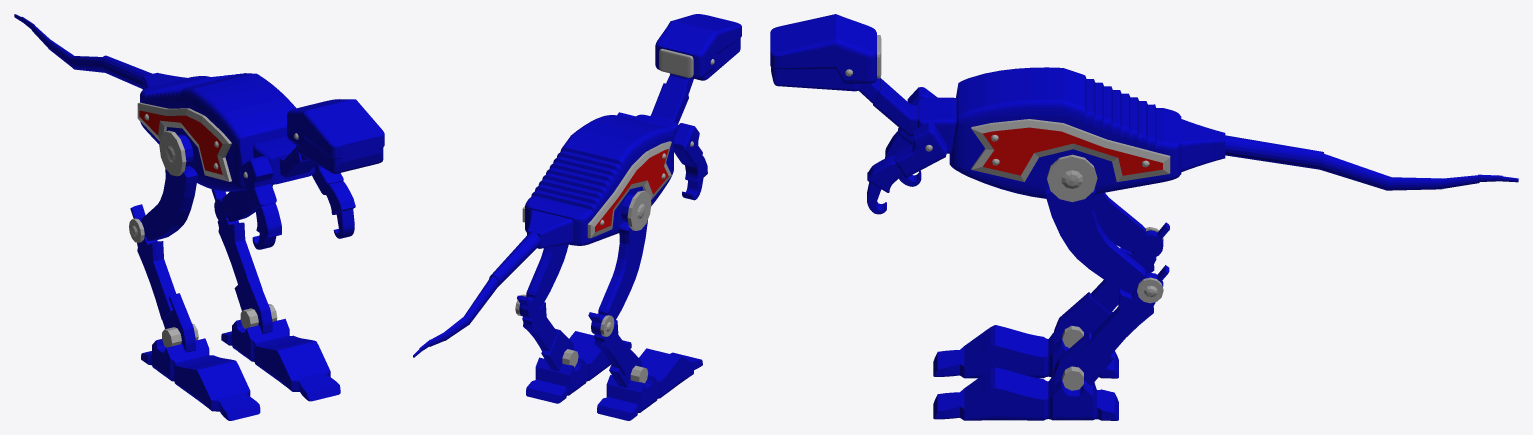
File: dinomech.obj
The picture shows the model from 3 angles, left to right: view 1: azimuth 30°, elevation 25°; view 2: azimuth 150°, elevation 25°; view 3: azimuth 270°, elevation 25°; orthographic projection. The views are drawn at different scales.
Visible parts, largest first — view 1: body_main, DINOMECH_DINOMECH_BLUE_METAL, FOOT01, FOOT, leg_mid, DINOMECH_DINOMECH_Explorer_Default, leg_mid01, DINOMECH_DINOMECH_FACEMAP_METL_BMP, upr_arm, DINOMECH_DINOMECH_BRUSHED_METAL, leg_btm01, leg_btm (+8 smaller); view 2: body_main, DINOMECH_DINOMECH_BLUE_METAL, FOOT01, FOOT, DINOMECH_DINOMECH_Explorer_Default, leg_upr01, leg_mid, DINOMECH_DINOMECH_FACEMAP_METL_BMP, leg_mid01, neck_lwr, upr_arm, DINOMECH_DINOMECH_BRASS (+5 smaller); view 3: body_main, DINOMECH_DINOMECH_BLUE_METAL, FOOT, FOOT01, leg_upr01, DINOMECH_DINOMECH_Explorer_Default, DINOMECH_DINOMECH_FACEMAP_METL_BMP, leg_mid01, upr_arm01, leg_mid, lg_hubs03, leg_btm (+5 smaller).
Boxes of the visible parts, bbox=[...] form: body_main: bbox=[140, 72, 314, 191]; DINOMECH_DINOMECH_BLUE_METAL: bbox=[100, 55, 384, 240]; FOOT01: bbox=[141, 338, 260, 420]; FOOT: bbox=[221, 318, 340, 401]; leg_mid: bbox=[130, 204, 176, 319]; DINOMECH_DINOMECH_Explorer_Default: bbox=[137, 102, 231, 181]; leg_mid01: bbox=[211, 189, 262, 288]; DINOMECH_DINOMECH_FACEMAP_METL_BMP: bbox=[139, 110, 222, 174]; upr_arm: bbox=[239, 156, 276, 211]; DINOMECH_DINOMECH_BRUSHED_METAL: bbox=[159, 130, 277, 329]; leg_btm01: bbox=[234, 275, 272, 333]; leg_btm: bbox=[162, 293, 195, 352]; body_main: bbox=[525, 114, 678, 248]; DINOMECH_DINOMECH_BLUE_METAL: bbox=[489, 14, 741, 332]; FOOT01: bbox=[597, 348, 702, 420]; FOOT: bbox=[526, 331, 631, 403]; DINOMECH_DINOMECH_Explorer_Default: bbox=[522, 141, 671, 238]; leg_upr01: bbox=[519, 244, 568, 315]; leg_mid: bbox=[588, 312, 633, 375]; DINOMECH_DINOMECH_FACEMAP_METL_BMP: bbox=[595, 149, 668, 232]; leg_mid01: bbox=[517, 295, 557, 351]; neck_lwr: bbox=[650, 83, 688, 123]; upr_arm: bbox=[673, 123, 702, 167]; DINOMECH_DINOMECH_BRASS: bbox=[606, 48, 714, 331]; body_main: bbox=[917, 67, 1225, 198]; DINOMECH_DINOMECH_BLUE_METAL: bbox=[770, 14, 1323, 252]; FOOT: bbox=[933, 367, 1118, 420]; FOOT01: bbox=[933, 325, 1118, 378]; leg_upr01: bbox=[1045, 187, 1163, 293]; DINOMECH_DINOMECH_Explorer_Default: bbox=[971, 119, 1170, 181]; DINOMECH_DINOMECH_FACEMAP_METL_BMP: bbox=[982, 127, 1162, 175]; leg_mid01: bbox=[1081, 265, 1169, 368]; upr_arm01: bbox=[894, 122, 947, 177]; leg_mid: bbox=[1091, 222, 1169, 313]; lg_hubs03: bbox=[1047, 154, 1097, 202]; leg_btm: bbox=[1053, 292, 1112, 345].
Bounding box in the file's own units: 7.68 × 20.67 × 38.58.
